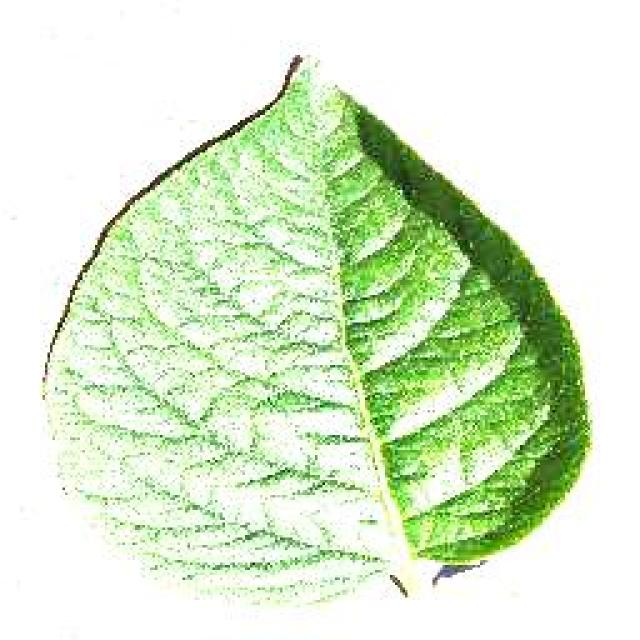Potato___healthy: (44, 36, 593, 614)
